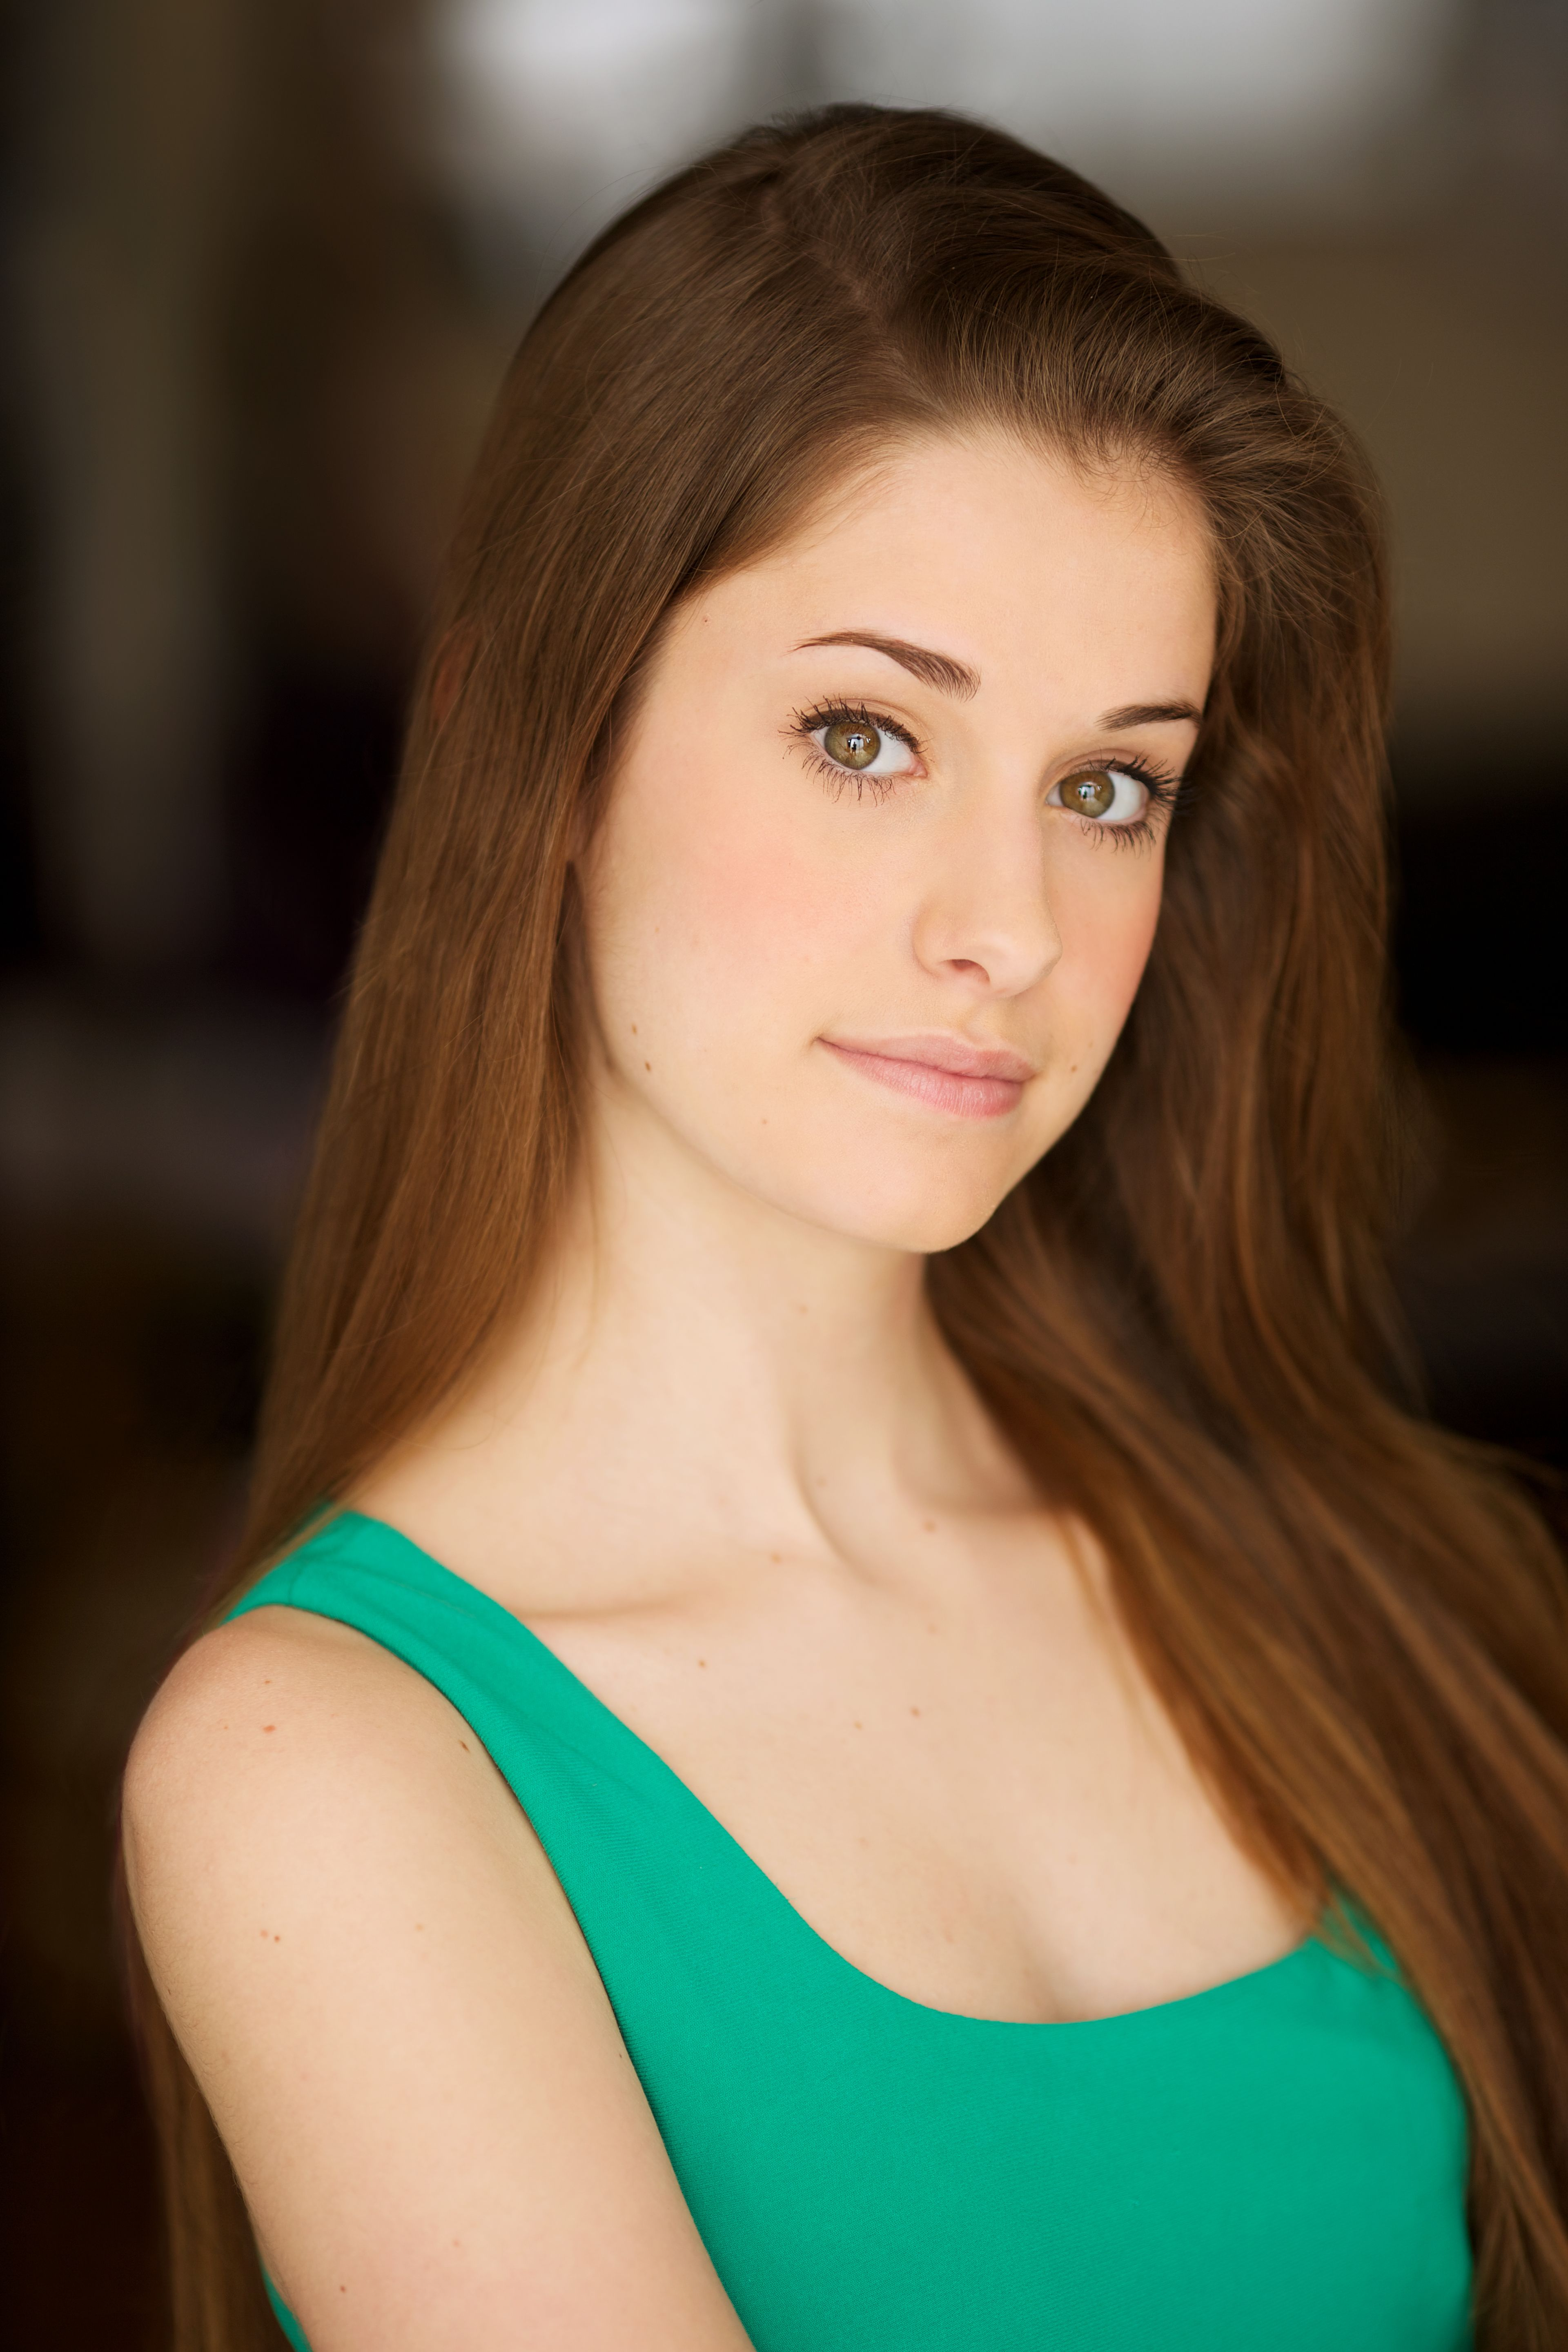without_mask: (697, 559, 1207, 1169)
